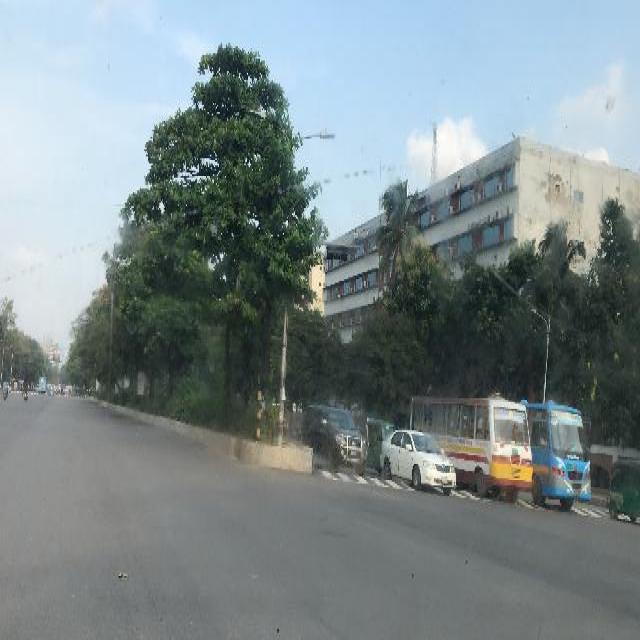bus: (458, 390, 534, 500), (536, 399, 592, 508)
car: (384, 428, 456, 482)
suv: (304, 402, 366, 476)
three wheelers -CNG-: (605, 454, 639, 524)
